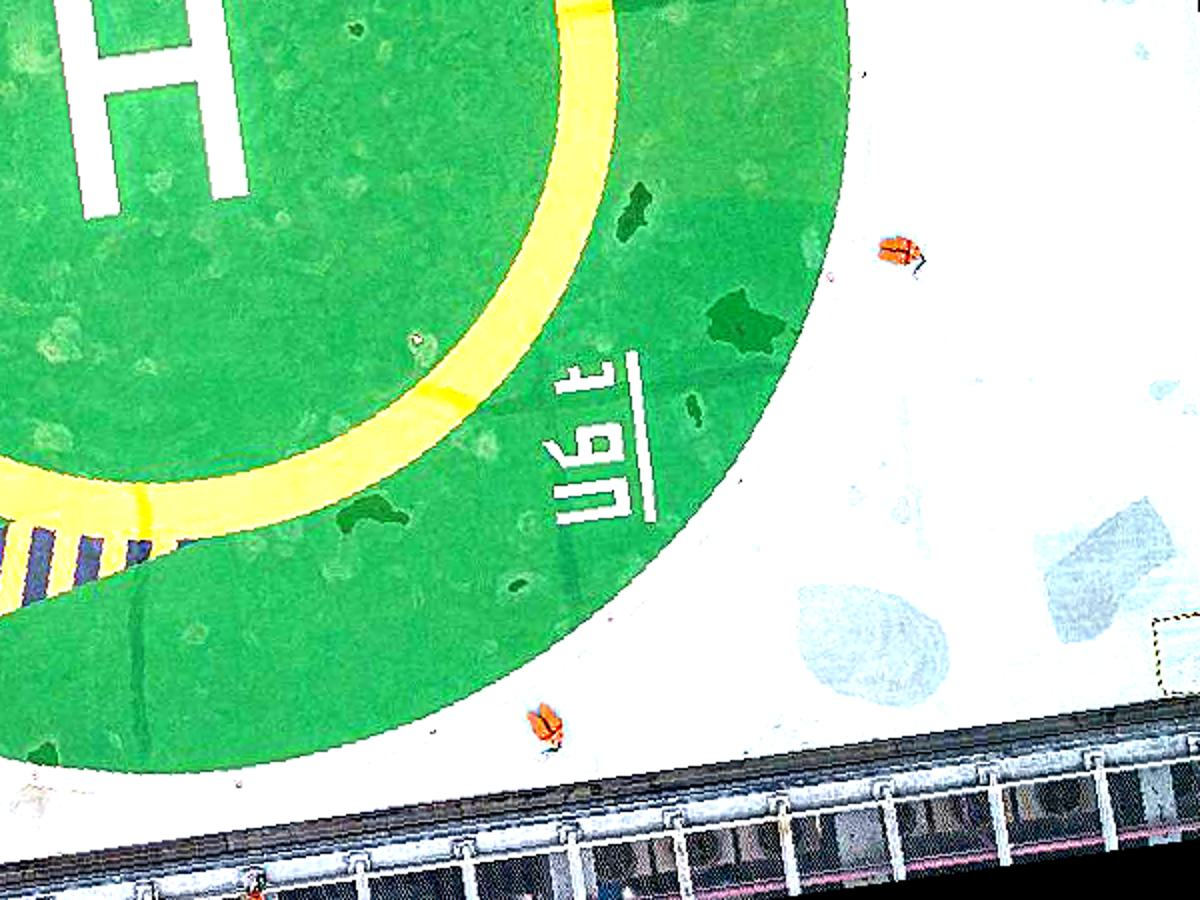Apron: (1, 1, 624, 551)
